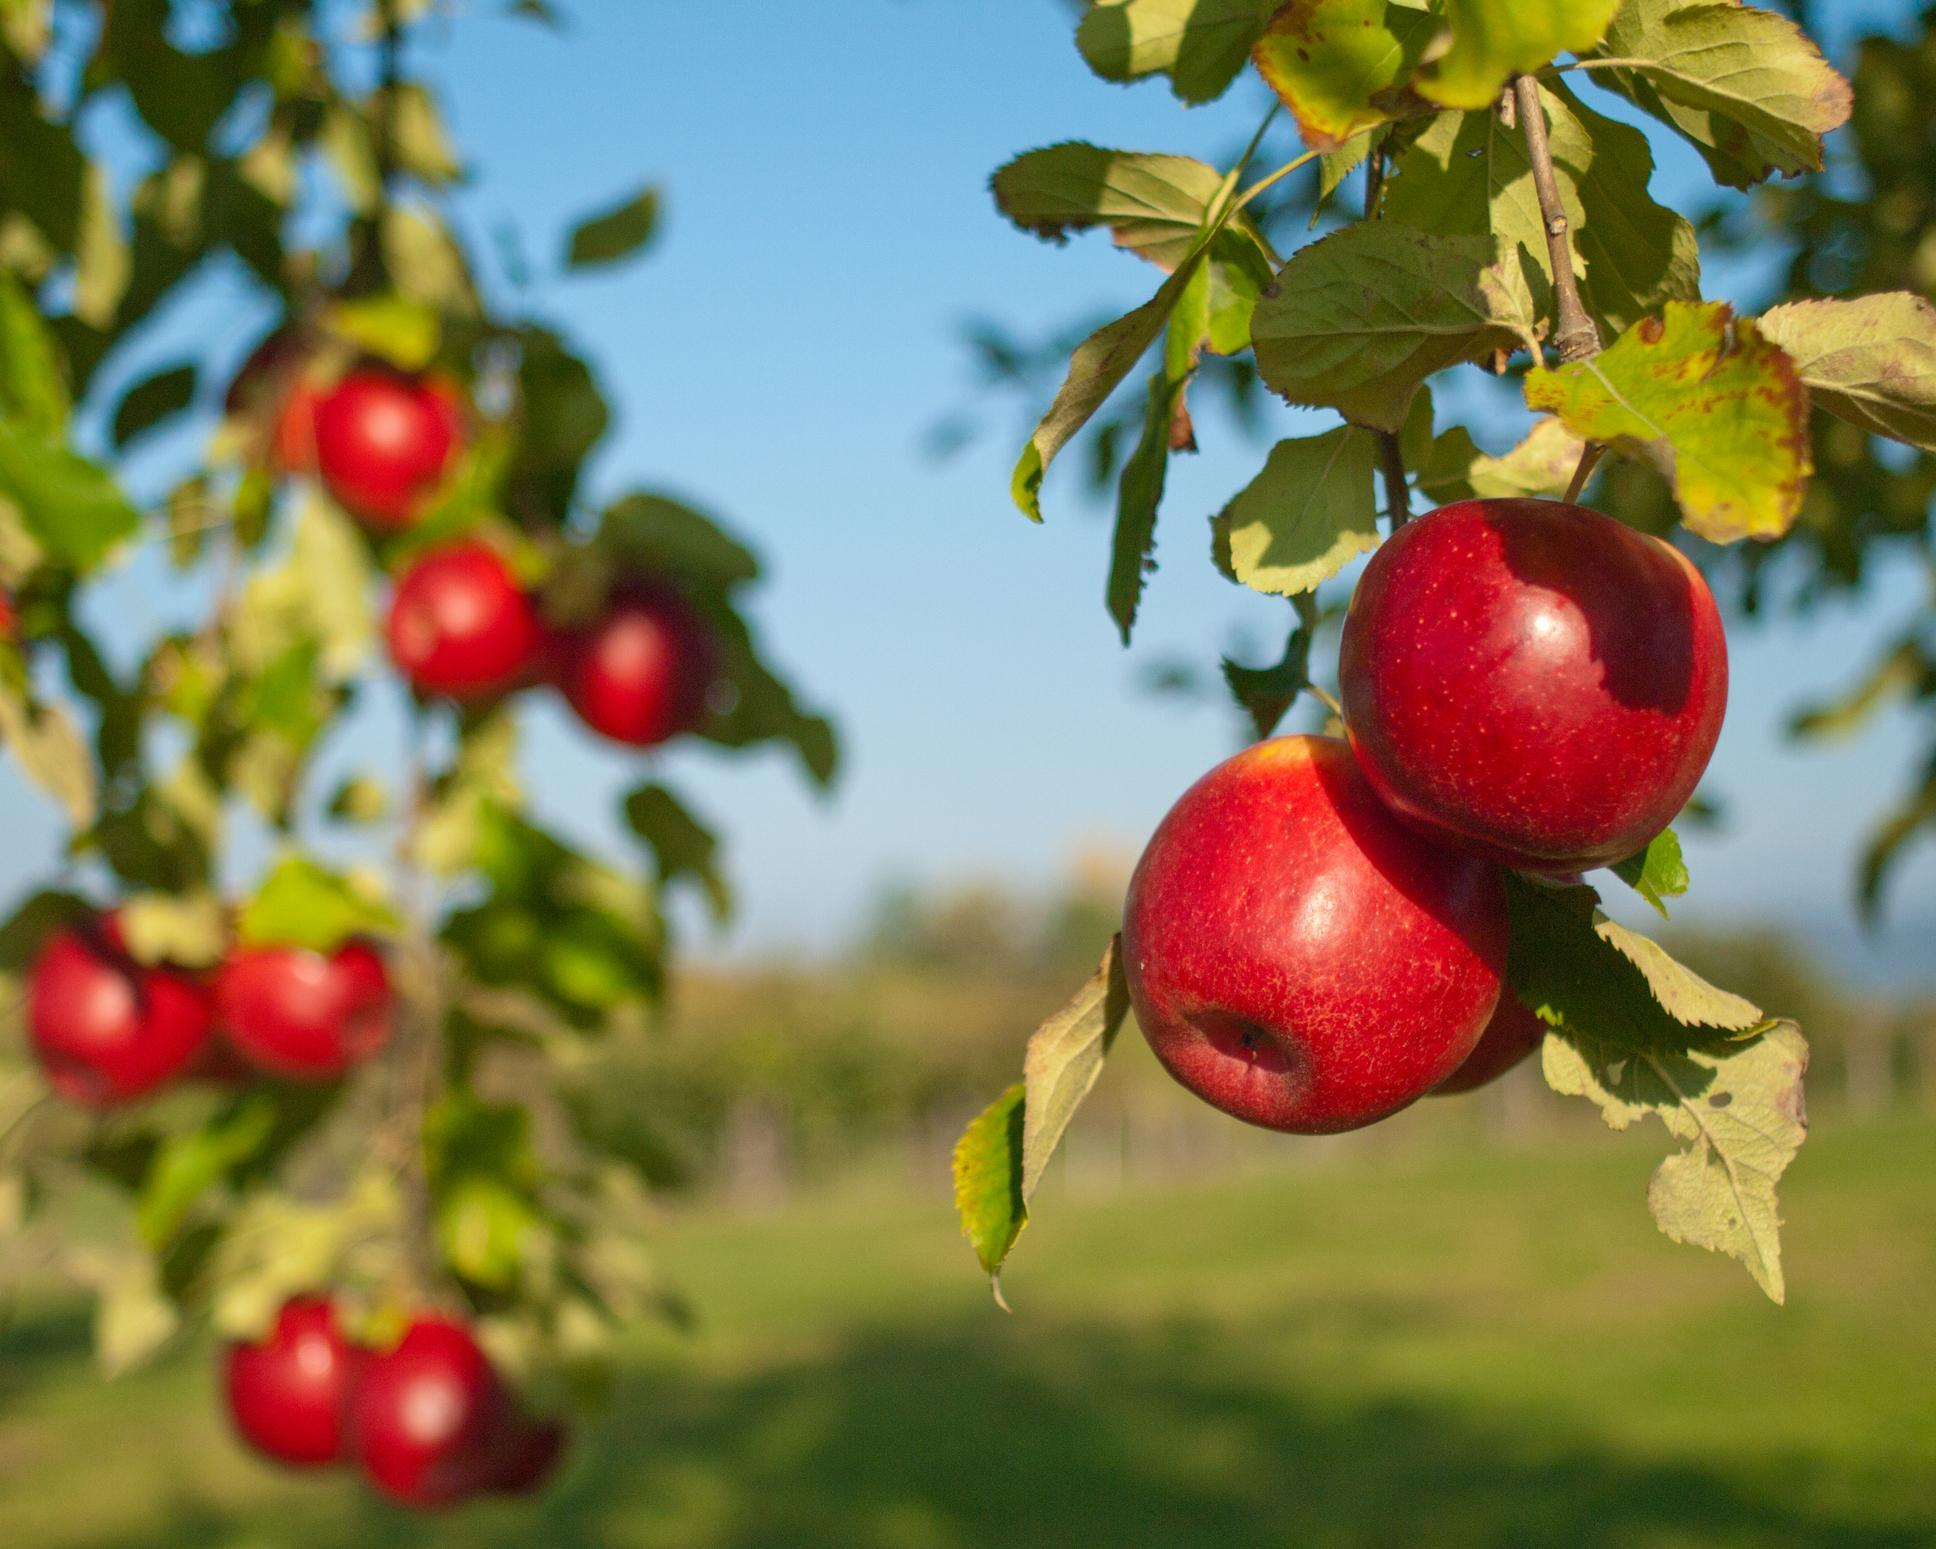apple: (1113, 714, 1522, 1140), (1335, 499, 1727, 871)
